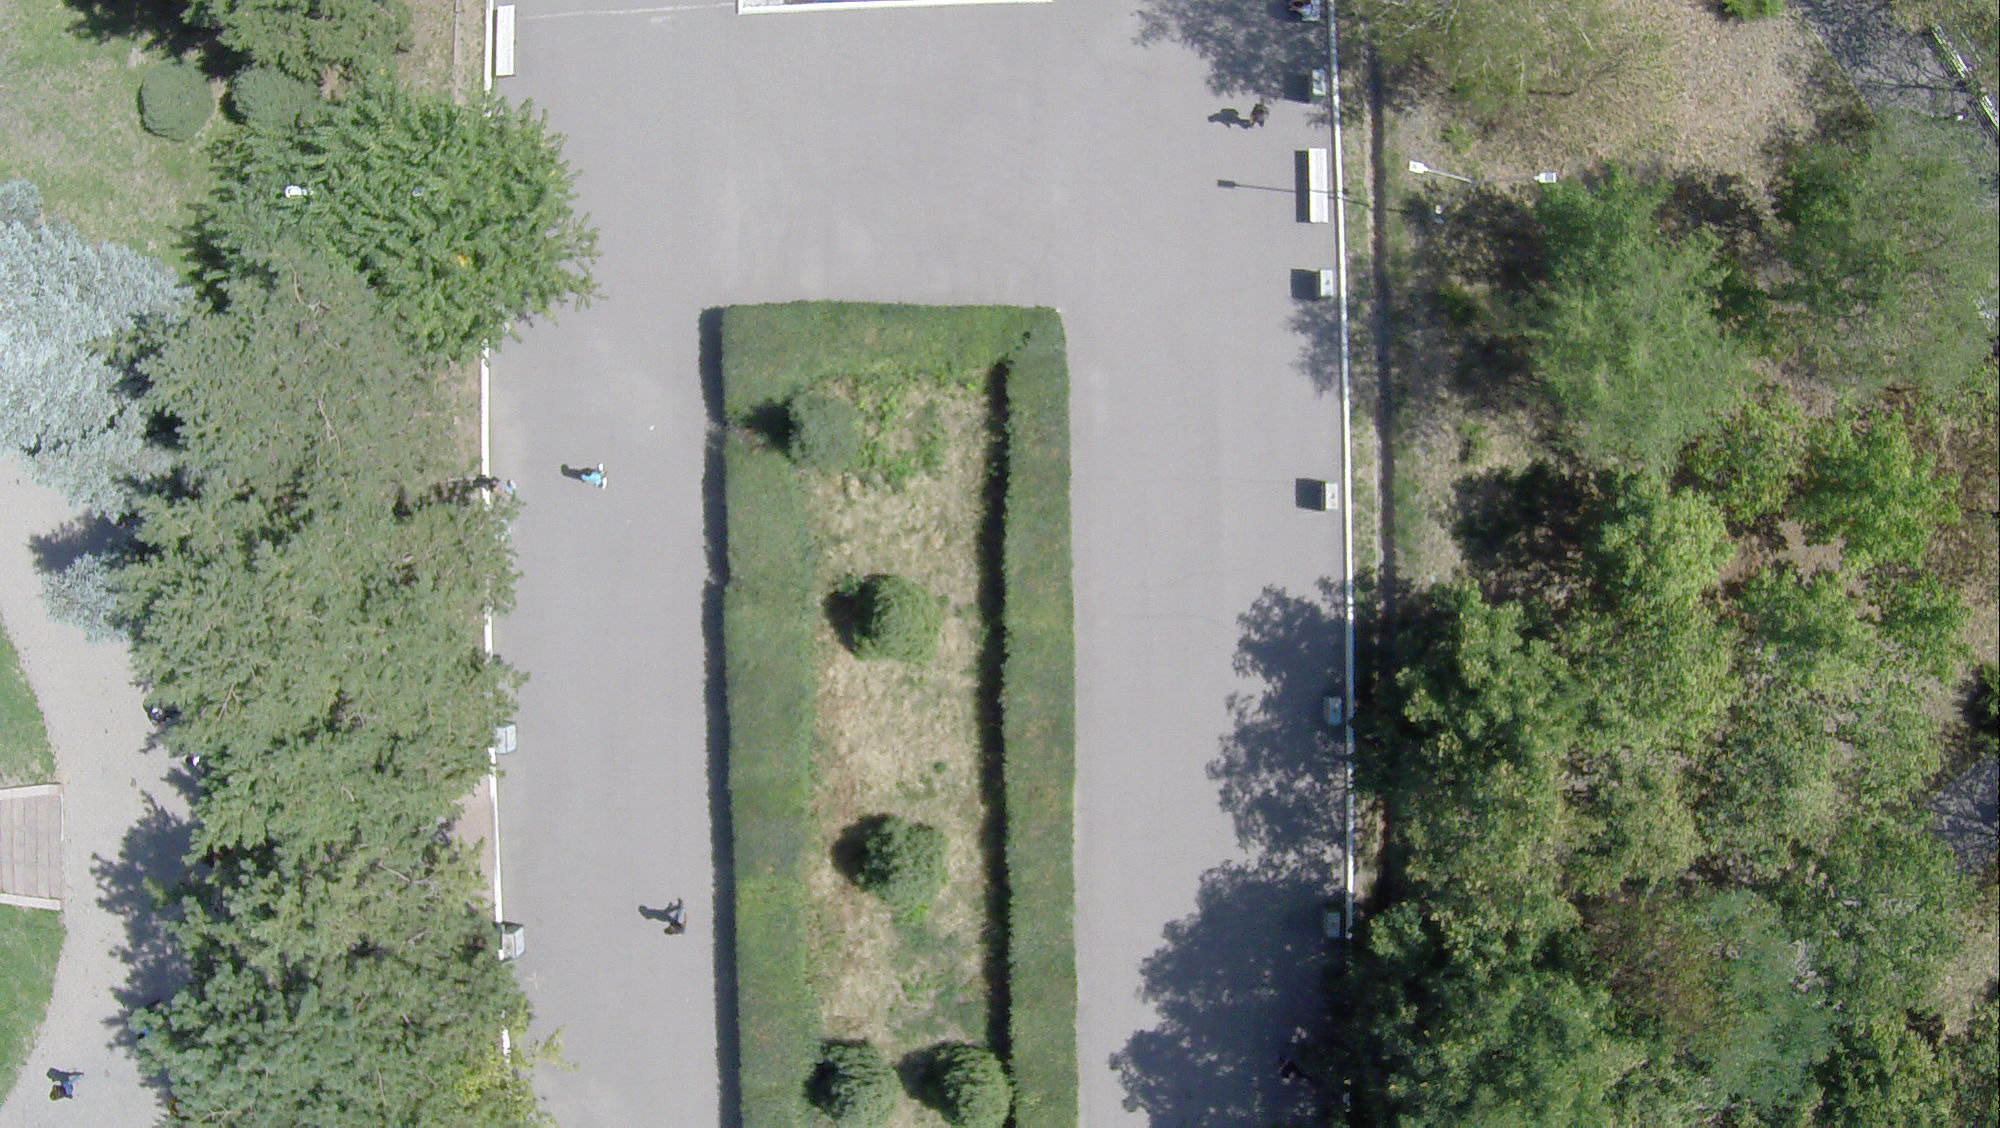person: (578, 459, 605, 495), (662, 900, 686, 936), (50, 1078, 78, 1103), (1250, 97, 1271, 131)
